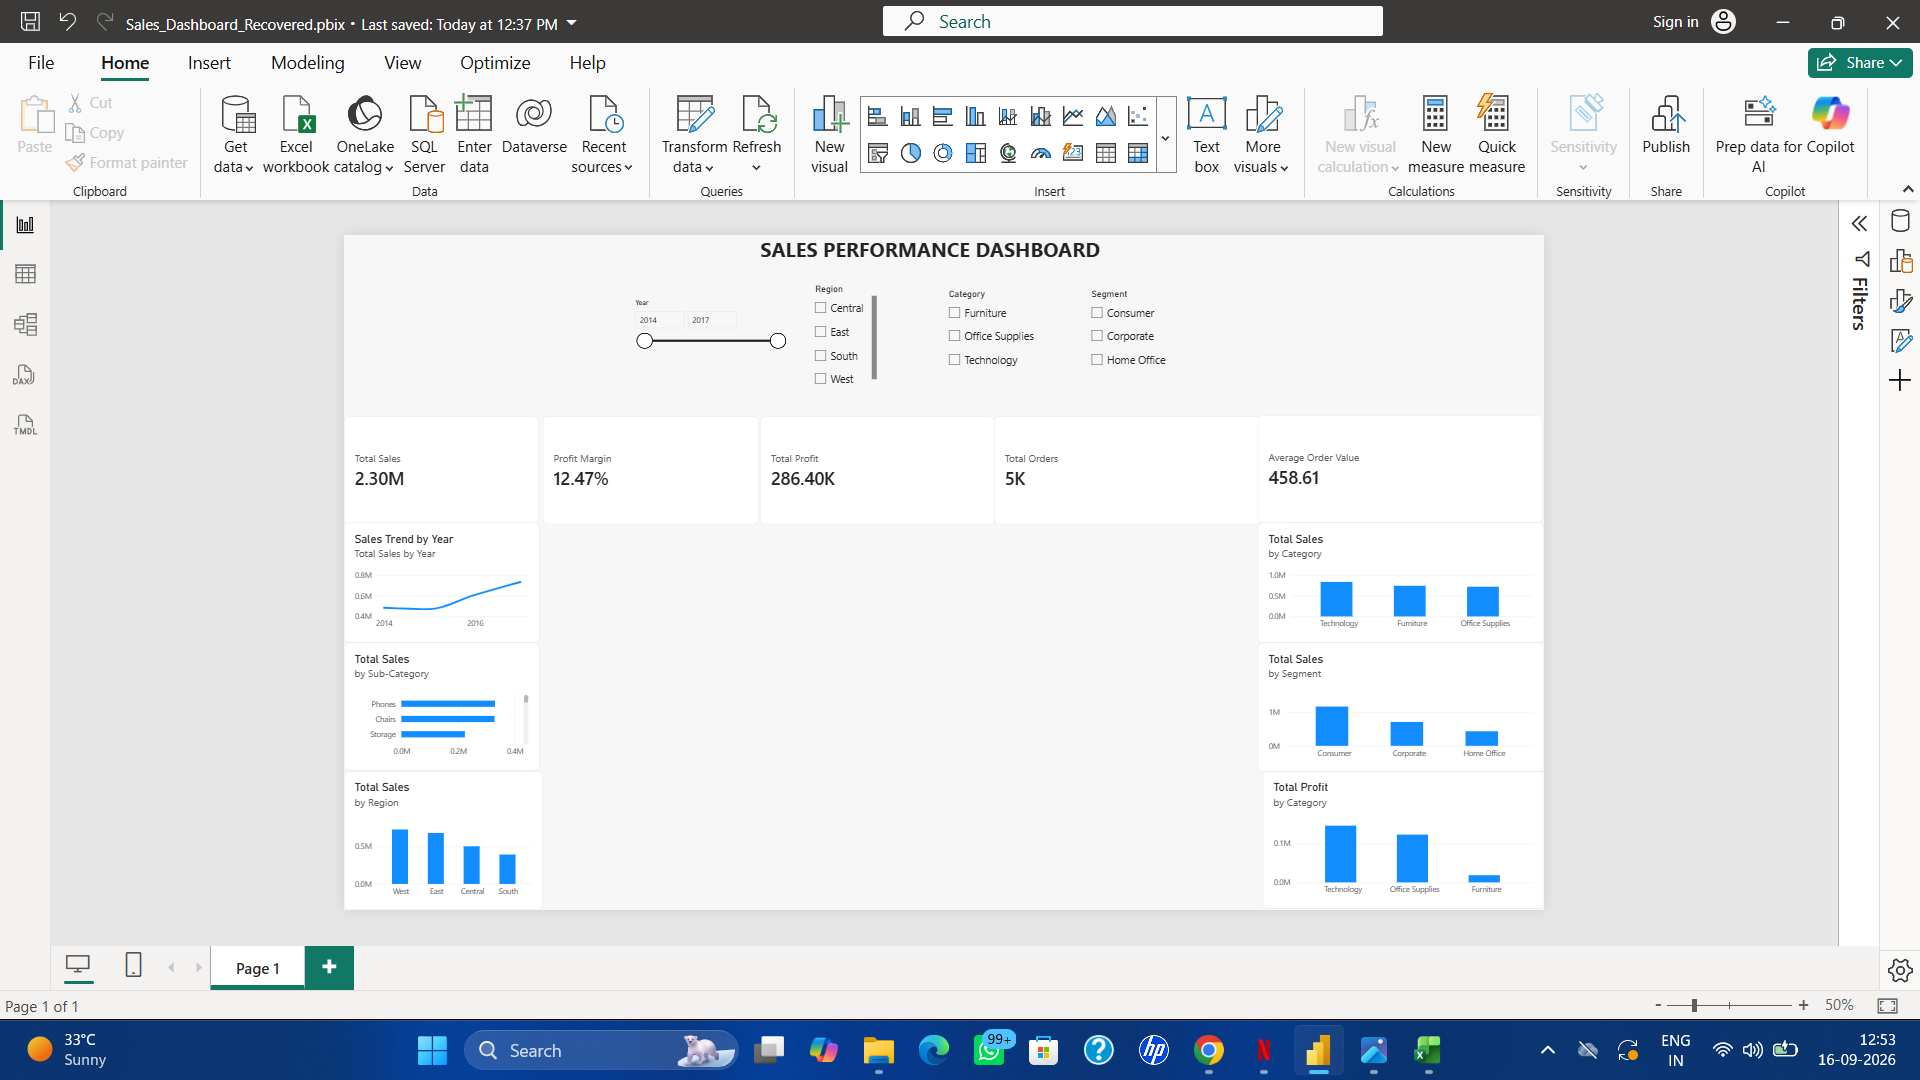

What the dashboard file says about the page in this screenshot:
{"tool":"powerbi","page":{"name":"Page 1","canvas":[1920,1080],"ordinal":0},"visuals":[{"type":"cardVisual","fields":{"Data":["SalesData.Total Sales"]},"box":[0,208.3,311.7,173.3],"z":1000},{"type":"cardVisual","fields":{"Data":["SalesData.Total Profit"]},"box":[658.3,208.3,375,173.3],"z":2000},{"type":"cardVisual","fields":{"Data":["SalesData.Total Orders"]},"box":[1033.3,208.3,430,173.3],"z":3000},{"type":"cardVisual","fields":{"Data":["SalesData.Average Order Value"]},"box":[1463.3,208.3,456.7,173.3],"z":4000},{"type":"cardVisual","fields":{"Data":["DateTable.Profit Margin"]},"box":[311.7,208.3,346.7,173.3],"z":5000},{"type":"lineChart","title":"Sales Trend by Year","fields":{"Category":["DateTable.Year"],"Y":["SalesData.Total Sales"]},"box":[0,381.7,241.7,226.7],"z":6000},{"type":"clusteredColumnChart","fields":{"Category":["SalesData.Category"],"Y":["SalesData.Total Sales"]},"box":[1640,381.7,280,251.7],"z":7000},{"type":"clusteredColumnChart","fields":{"Category":["SalesData.Region"],"Y":["SalesData.Total Sales"]},"box":[0,856.7,241.7,223.3],"z":8000},{"type":"clusteredColumnChart","fields":{"Category":["SalesData.Segment"],"Y":["SalesData.Total Sales"]},"box":[1640,633.3,280,226.7],"z":9000},{"type":"clusteredBarChart","fields":{"Category":["SalesData.Sub-Category"],"Y":["SalesData.Total Sales"]},"box":[0,608.3,241.7,248.3],"z":10000},{"type":"clusteredColumnChart","fields":{"Category":["SalesData.Category"],"Y":["SalesData.Total Profit"]},"box":[1640,860,280,220],"z":11000},{"type":"textbox","box":[665,35,1071.7,56.7],"z":11002},{"type":"slicer","fields":{"Values":["DateTable.Year"]},"box":[1106.7,75,252.9,85.7],"z":11003},{"type":"slicer","fields":{"Values":["SalesData.Region"]},"box":[1390,35,106.7,165],"z":11004},{"type":"slicer","fields":{"Values":["SalesData.Category"]},"box":[1535,43.3,156.7,150],"z":11005},{"type":"slicer","fields":{"Values":["SalesData.Segment"]},"box":[1691.7,43.3,135,150],"z":11006}]}

Visuals, with their boxes on the page's 1920x1080 design canvas (x1, y1, x2, y2). These are canvas units, not pixel positions in the 1920x1080 screenshot, which may show the page scaled, cropped or inside an application window:
cardVisual - SalesData.Total Sales: Rect(0, 208, 312, 382)
cardVisual - SalesData.Total Profit: Rect(658, 208, 1033, 382)
cardVisual - SalesData.Total Orders: Rect(1033, 208, 1463, 382)
cardVisual - SalesData.Average Order Value: Rect(1463, 208, 1920, 382)
cardVisual - DateTable.Profit Margin: Rect(312, 208, 658, 382)
"Sales Trend by Year" lineChart: Rect(0, 382, 242, 608)
clusteredColumnChart - SalesData.Category x SalesData.Total Sales: Rect(1640, 382, 1920, 633)
clusteredColumnChart - SalesData.Region x SalesData.Total Sales: Rect(0, 857, 242, 1080)
clusteredColumnChart - SalesData.Segment x SalesData.Total Sales: Rect(1640, 633, 1920, 860)
clusteredBarChart - SalesData.Sub-Category x SalesData.Total Sales: Rect(0, 608, 242, 857)
clusteredColumnChart - SalesData.Category x SalesData.Total Profit: Rect(1640, 860, 1920, 1080)
textbox: Rect(665, 35, 1737, 92)
slicer - DateTable.Year: Rect(1107, 75, 1360, 161)
slicer - SalesData.Region: Rect(1390, 35, 1497, 200)
slicer - SalesData.Category: Rect(1535, 43, 1692, 193)
slicer - SalesData.Segment: Rect(1692, 43, 1827, 193)
